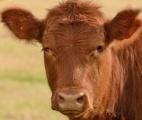muzzles: (49, 88, 89, 115)
